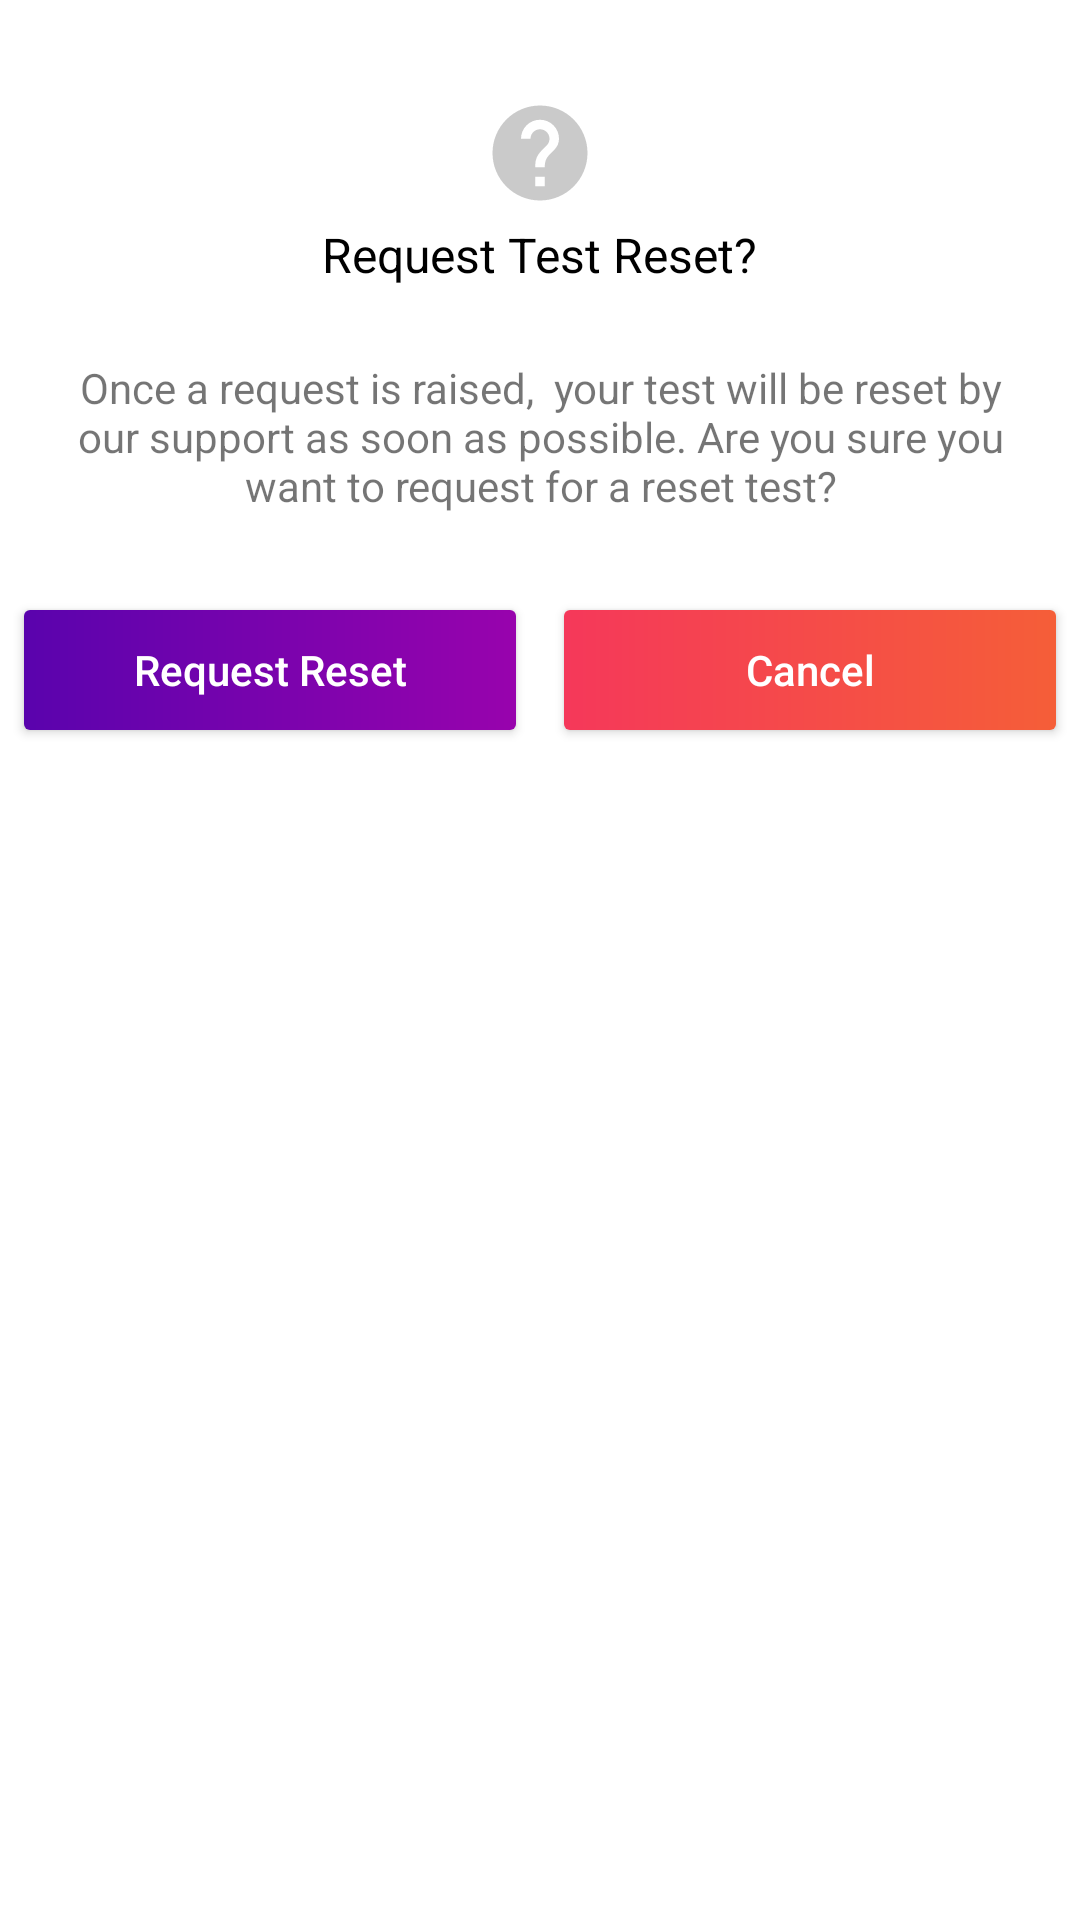

Icon click points for this 1080×1920 phone screenshot, format point (x, y):
help: point (540, 153)
